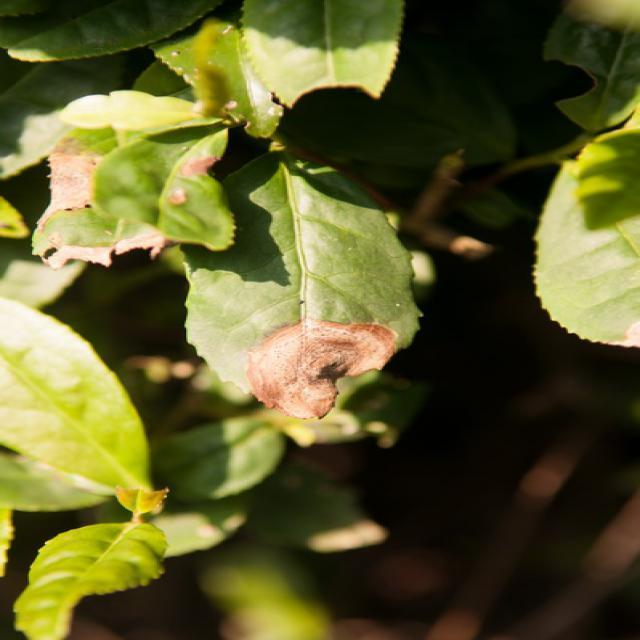Tea cloud leaf blight: (245, 318, 401, 419)
